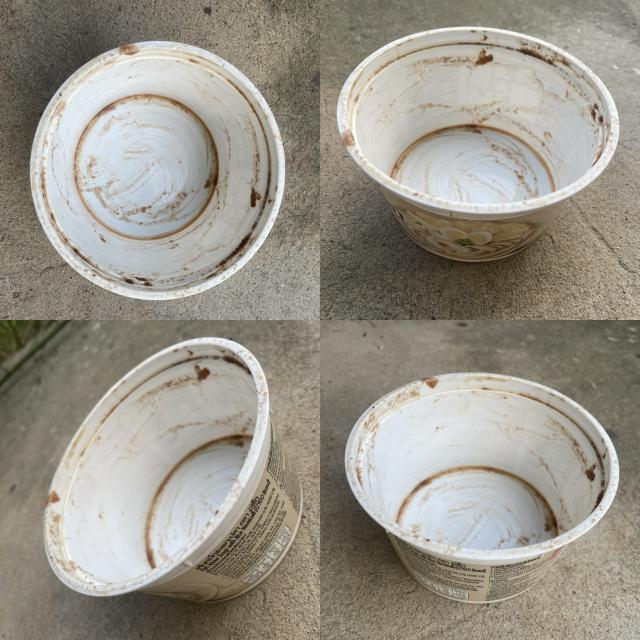Single-Use-Plastic: (45, 338, 302, 602), (30, 41, 285, 299), (338, 28, 619, 261), (345, 374, 619, 602)
